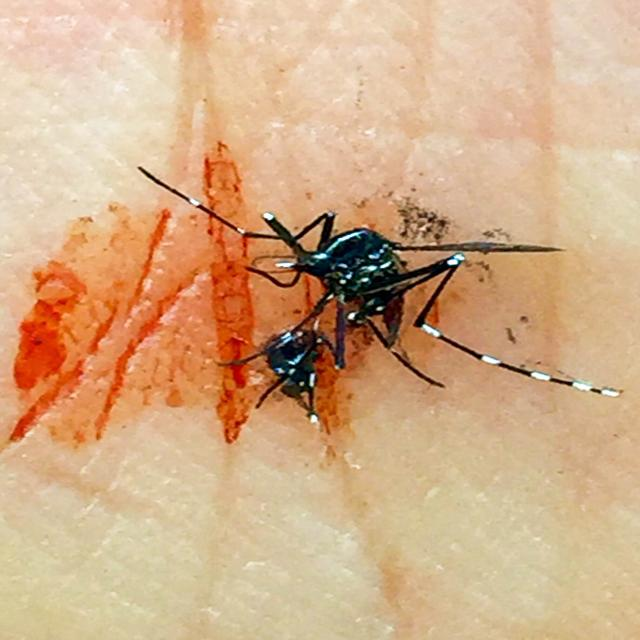albopictus: (140, 128, 602, 460)
